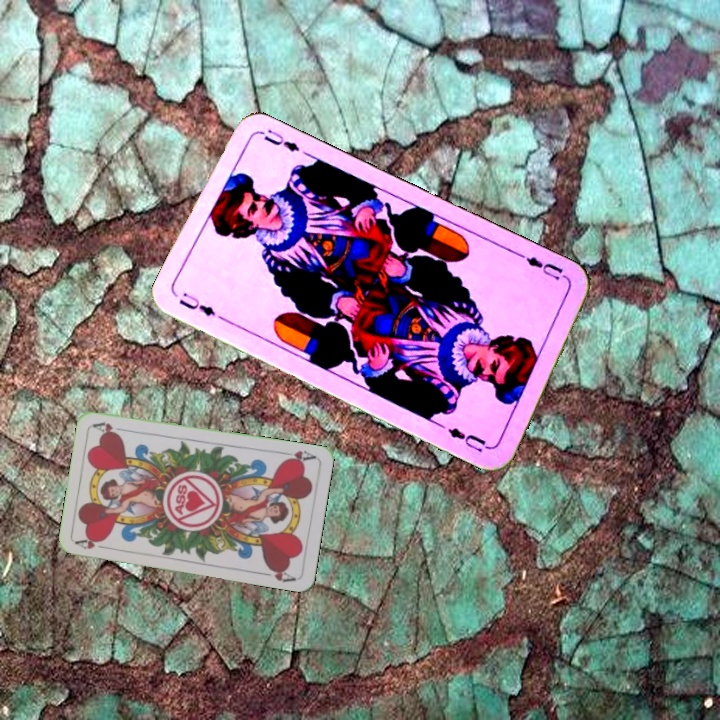EU: (516, 249, 571, 283), (174, 289, 218, 319)
HA: (277, 446, 318, 466), (72, 534, 113, 552)
